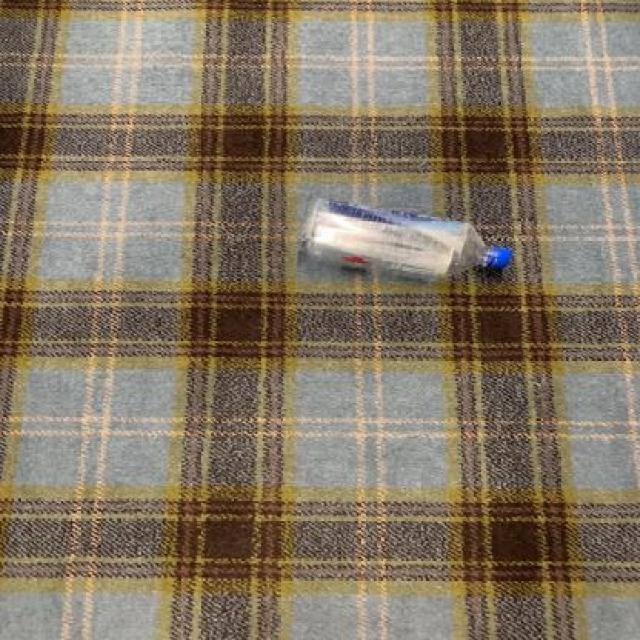trash: (298, 191, 513, 287)
